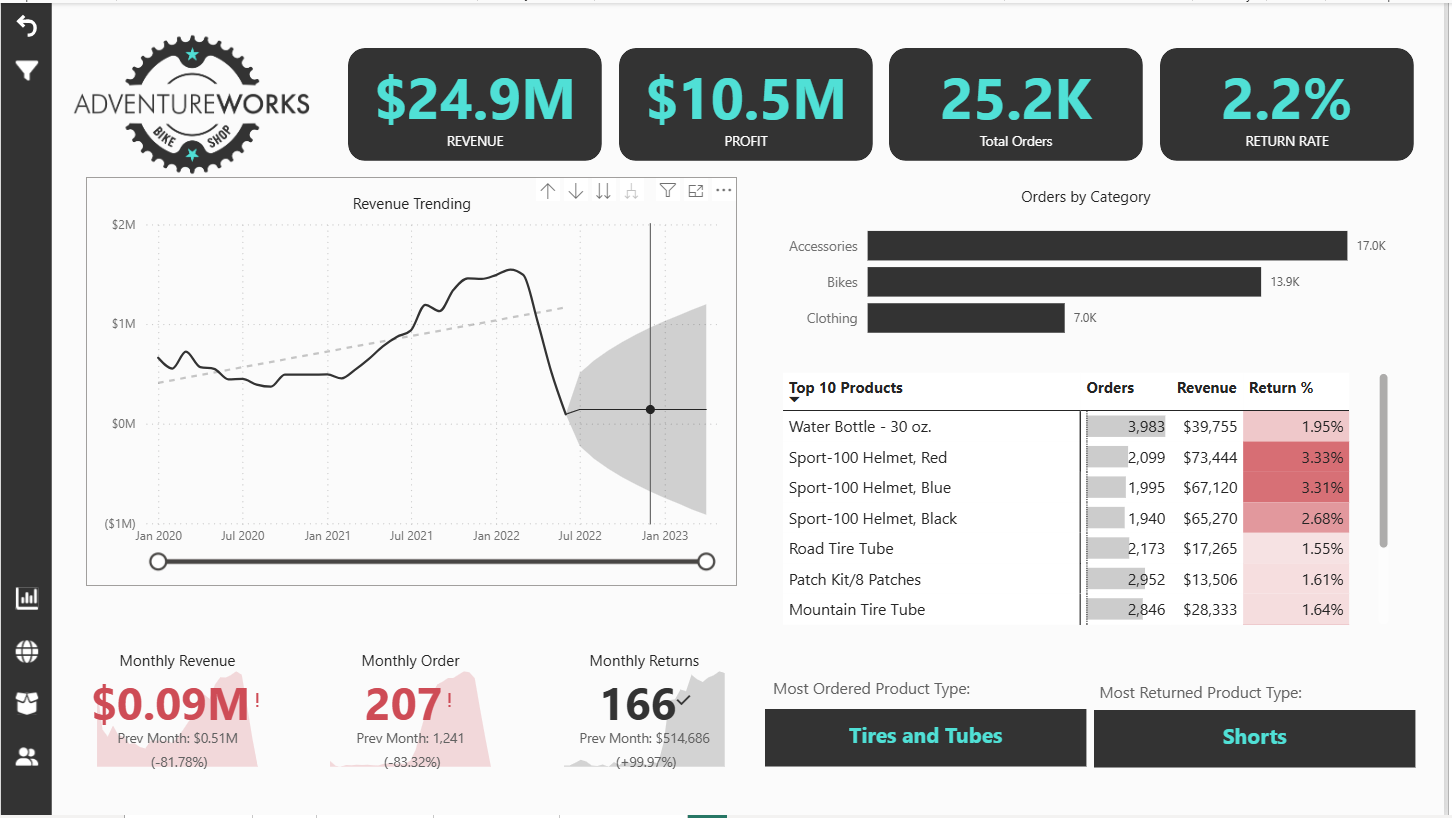

This screenshot's page, from the dashboard's own definition file:
{"tool":"powerbi","page":{"name":"Exec Dashboard","canvas":[1280,720],"ordinal":0},"visuals":[{"type":"card","fields":{"Values":["Measure Table.Total Revenue"]},"box":[292.6,15.1,255.4,150.7],"z":0,"group":"g2"},{"type":"image","title":"AW Logo","box":[41.7,19.5,256.3,141],"z":0},{"type":"group","id":"g1","title":"KPI Backgrounds","box":[307.7,39.9,945.2,100.2],"z":0,"group":"g3"},{"type":"shape","box":[307.7,39.9,225.2,100.2],"z":0,"group":"g1"},{"type":"actionButton","box":[0,508,45,39],"z":0,"group":"g4"},{"type":"shape","title":"Left Nav Background","box":[0,0,45,720],"z":1000},{"type":"group","id":"g2","title":"KPI Values","box":[292.6,15.1,975.4,150.7],"z":1000,"group":"g3"},{"type":"card","fields":{"Values":["Measure Table.Total Profit"]},"box":[532.6,15.1,255.4,150.7],"z":1000,"group":"g2"},{"type":"shape","box":[547.7,39.9,225.2,100.2],"z":1000,"group":"g1"},{"type":"actionButton","box":[0,554.7,45,39],"z":1000,"group":"g4"},{"type":"group","id":"g3","title":"KPIs","box":[292.6,15.1,975.4,150.7],"z":2000},{"type":"card","fields":{"Values":["Measure Table.Total Orders"]},"box":[772.6,15.1,255.4,150.7],"z":2000,"group":"g2"},{"type":"shape","box":[787.7,39.9,225.2,100.2],"z":2000,"group":"g1"},{"type":"actionButton","box":[0,601,45,39],"z":2000,"group":"g4"},{"type":"card","fields":{"Values":["Measure Table.Return Rate"]},"box":[1012.6,15.1,255.4,150.7],"z":3000,"group":"g2"},{"type":"shape","box":[1027.7,39.9,225.2,100.2],"z":3000,"group":"g1"},{"type":"lineChart","title":"Revenue Trending","fields":{"Y":["Measure Table.Total Revenue"],"Category":["Calendar Lookup.Date Hierarchy.Start of Year","Calendar Lookup.Date Hierarchy.Start of Month","Calendar Lookup.Date Hierarchy.Start of Week","Calendar Lookup.Date Hierarchy.Date"]},"box":[75,154,578,363],"z":3000},{"type":"actionButton","box":[0,648,45,39],"z":3000,"group":"g4"},{"type":"kpi","title":"Monthly Revenue","fields":{"Indicator":["Measure Table.Total Revenue"],"TrendLine":["Calendar Lookup.Start of Month"],"Goal":["Measure Table.Previous Month Revenue"]},"box":[68.9,559.1,174.5,133.6],"z":4000},{"type":"kpi","title":"Monthly Order","fields":{"TrendLine":["Calendar Lookup.Start of Month"],"Indicator":["Measure Table.Total Orders"],"Goal":["Measure Table.Previous Month Orders"]},"box":[276.2,559.1,174.5,133.6],"z":5000},{"type":"kpi","title":"Monthly Returns","fields":{"TrendLine":["Calendar Lookup.Start of Month"],"Goal":["Measure Table.Previous Month Revenue"],"Indicator":["Measure Table.Total Returns"]},"box":[483.5,559.1,174.5,133.6],"z":6000},{"type":"clusteredBarChart","title":"Orders by Category","fields":{"Category":["Product Categories Lookup.CategoryName"],"Y":["Measure Table.Total Orders"]},"box":[677,154,569,160],"z":7000},{"type":"pivotTable","fields":{"Rows":["Product Lookup.ProductName"],"Values":["Measure Table.Total Orders","Measure Table.Total Revenue","Measure Table.Return Rate"]},"box":[677,314,569,253],"z":8000},{"type":"card","fields":{"Values":["Min(Product Subcategories Lookup.SubcategoryName)"]},"box":[677,626,285,51],"z":9000},{"type":"textbox","box":[677,598,189,28],"z":10000},{"type":"card","fields":{"Values":["Min(Product Subcategories Lookup.SubcategoryName)"]},"box":[969,627,285,51],"z":11000},{"type":"textbox","box":[950,601,228,22],"z":12000},{"type":"actionButton","box":[0,0,45,40],"z":13000},{"type":"group","id":"g4","title":"Navigation Buttons","box":[0,508,45,179],"z":14000},{"type":"actionButton","box":[0,40,45,40],"z":15000}]}

Visuals, with their boxes on the page's 1280x720 design canvas (x1, y1, x2, y2). These are canvas units, not pixel positions in the 1452x818 screenshot, which may show the page scaled, cropped or inside an application window:
card - Measure Table.Total Revenue: BBox(293, 15, 548, 166)
"AW Logo" image: BBox(42, 20, 298, 160)
"KPI Backgrounds" group: BBox(308, 40, 1253, 140)
shape: BBox(308, 40, 533, 140)
actionButton: BBox(0, 508, 45, 547)
"Left Nav Background" shape: BBox(0, 0, 45, 720)
"KPI Values" group: BBox(293, 15, 1268, 166)
card - Measure Table.Total Profit: BBox(533, 15, 788, 166)
shape: BBox(548, 40, 773, 140)
actionButton: BBox(0, 555, 45, 594)
"KPIs" group: BBox(293, 15, 1268, 166)
card - Measure Table.Total Orders: BBox(773, 15, 1028, 166)
shape: BBox(788, 40, 1013, 140)
actionButton: BBox(0, 601, 45, 640)
card - Measure Table.Return Rate: BBox(1013, 15, 1268, 166)
shape: BBox(1028, 40, 1253, 140)
"Revenue Trending" lineChart: BBox(75, 154, 653, 517)
actionButton: BBox(0, 648, 45, 687)
"Monthly Revenue" kpi: BBox(69, 559, 243, 693)
"Monthly Order" kpi: BBox(276, 559, 451, 693)
"Monthly Returns" kpi: BBox(484, 559, 658, 693)
"Orders by Category" clusteredBarChart: BBox(677, 154, 1246, 314)
pivotTable - Product Lookup.ProductName x Measure Table.Total Orders: BBox(677, 314, 1246, 567)
card - Min(Product Subcategories Lookup.SubcategoryName): BBox(677, 626, 962, 677)
textbox: BBox(677, 598, 866, 626)
card - Min(Product Subcategories Lookup.SubcategoryName): BBox(969, 627, 1254, 678)
textbox: BBox(950, 601, 1178, 623)
actionButton: BBox(0, 0, 45, 40)
"Navigation Buttons" group: BBox(0, 508, 45, 687)
actionButton: BBox(0, 40, 45, 80)
